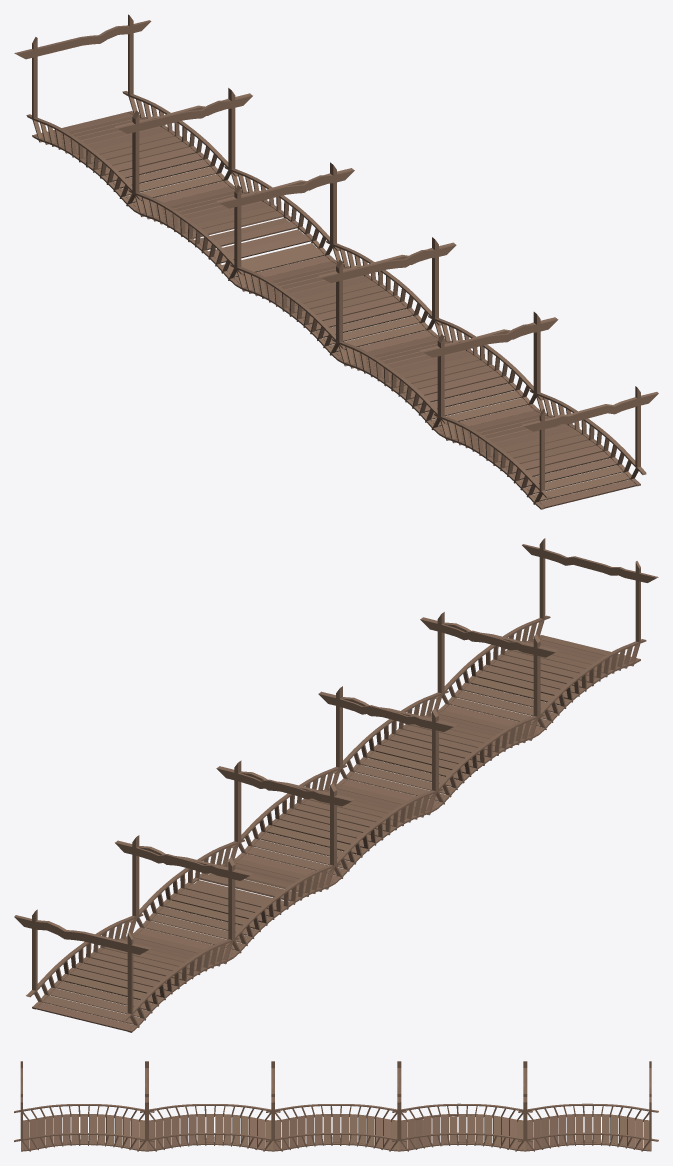
File: Bridges.fbx
3 renders of one model, top to bottom at view 1: azimuth 30°, elevation 25°; view 2: azimuth 150°, elevation 25°; view 3: azimuth 270°, elevation 25°, orthographic. The views are drawn at different scales.
Visible parts, largest first — view 1: Bridge; view 2: Bridge; view 3: Bridge.
Boxes of the visible parts, x1,y1,x2,y2 form: Bridge: (14, 14, 658, 509); Bridge: (14, 538, 658, 1032); Bridge: (14, 1061, 658, 1151).
Size of what is drawn, in the model's own units: 35.91 by 25.2 by 239.
